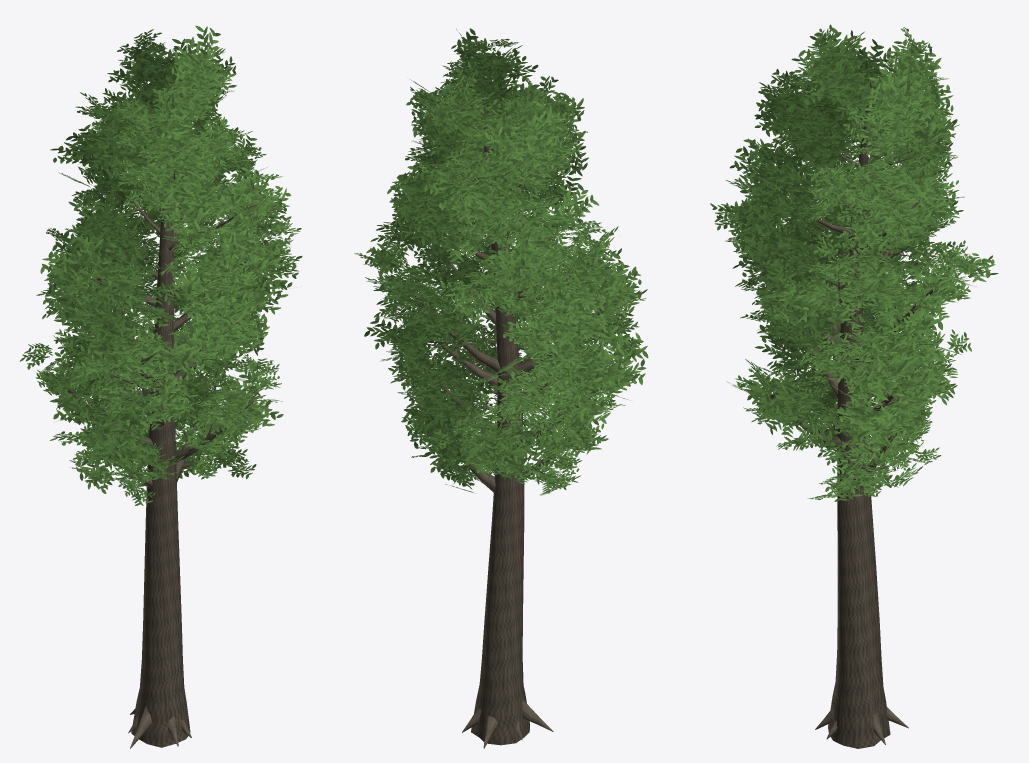
The model's file is BroadleafTall.glb.
3 views of the same model, side by side, from view 1: azimuth 30°, elevation 25°; view 2: azimuth 150°, elevation 25°; view 3: azimuth 270°, elevation 25° (orthographic). The views are drawn at different scales.
Visible parts, largest first — view 1: BroadleafTall; view 2: BroadleafTall; view 3: BroadleafTall.
Boxes of the visible parts, <box> form: BroadleafTall: <box>19,25,302,748</box>; BroadleafTall: <box>354,28,648,748</box>; BroadleafTall: <box>710,24,998,748</box>.
Size of the model in its own units: 7.93 by 19.58 by 7.8.
2 materials, 2 textured.
